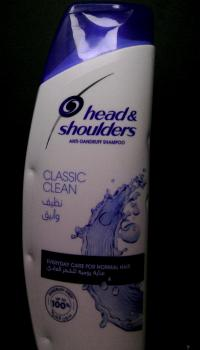dent_unacceptable: (40, 332, 55, 346), (144, 130, 152, 153), (26, 165, 38, 179), (143, 191, 150, 214), (26, 250, 36, 264)
